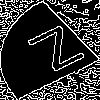Z: (25, 25, 97, 80)
